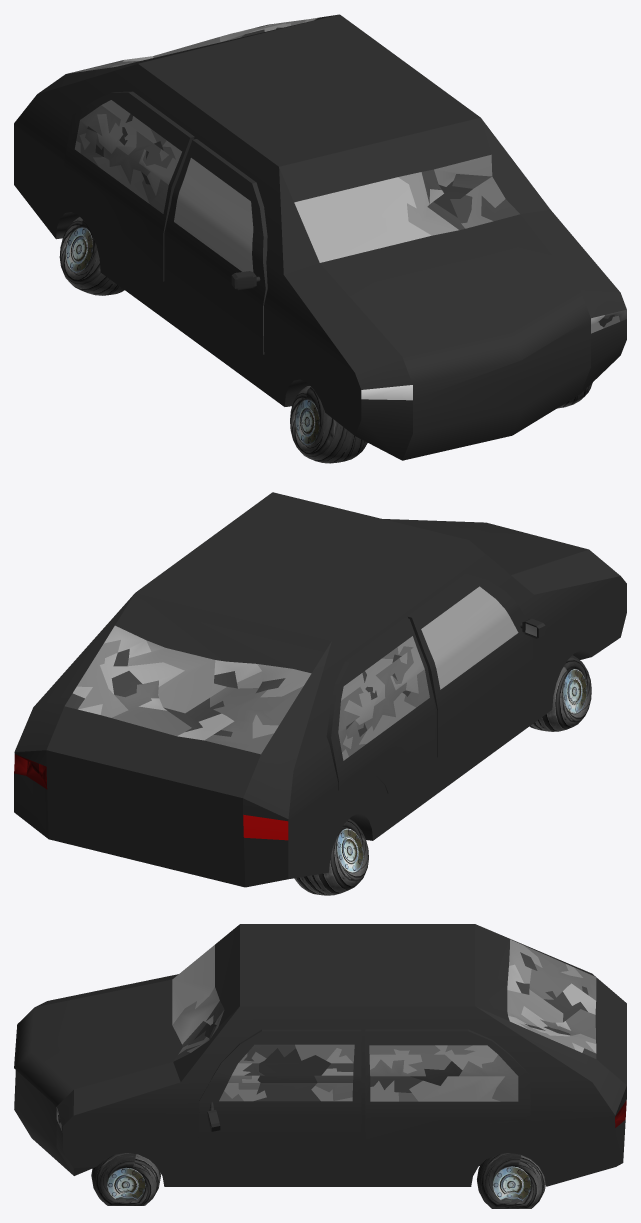
The model's file is smashed car.fbx.
The picture shows the model from 3 angles, top to bottom: view 1: azimuth 30°, elevation 25°; view 2: azimuth 150°, elevation 25°; view 3: azimuth 270°, elevation 25°; orthographic projection. The views are drawn at different scales.
Parts seen in each view (by area): view 1: car, FrontWheelR, BackWheelR; view 2: car, BackWheelR, FrontWheelR; view 3: car, FrontWheelL1, FrontWheelL.
Part boxes in pixels (x1,y1,x2,y2): car: (14, 14, 626, 460); FrontWheelR: (290, 385, 367, 463); BackWheelR: (59, 217, 124, 295); car: (14, 492, 626, 887); BackWheelR: (294, 819, 368, 895); FrontWheelR: (529, 655, 591, 731); car: (14, 924, 626, 1186); FrontWheelL1: (477, 1153, 545, 1208); FrontWheelL: (91, 1153, 160, 1205).
Size of the model in its own units: 13.43 by 9.4 by 26.1.
